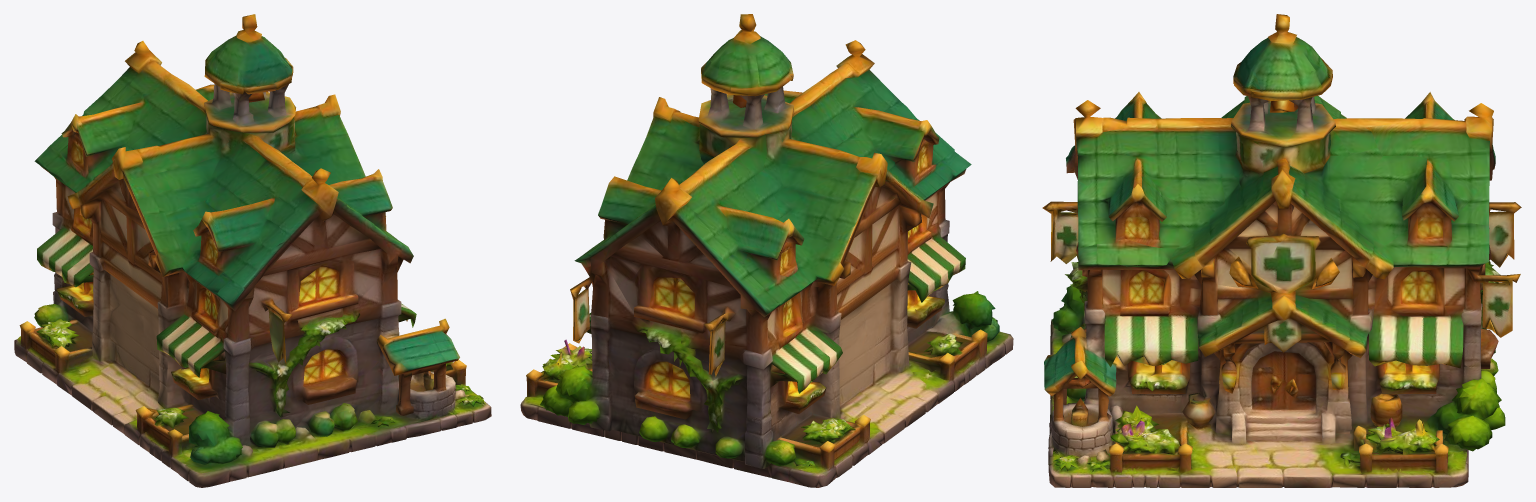
File: hospital_2.glb
The picture shows the model from 3 angles, left to right: view 1: azimuth 30°, elevation 25°; view 2: azimuth 150°, elevation 25°; view 3: azimuth 270°, elevation 25°; orthographic projection. The views are drawn at different scales.
Visible parts, largest first — view 1: tripo_node_85baf2e3-f52c-430c-8975-efc0fe39505f; view 2: tripo_node_85baf2e3-f52c-430c-8975-efc0fe39505f; view 3: tripo_node_85baf2e3-f52c-430c-8975-efc0fe39505f.
Part boxes in pixels (x1,y1,x2,y2): tripo_node_85baf2e3-f52c-430c-8975-efc0fe39505f: (14, 14, 491, 487); tripo_node_85baf2e3-f52c-430c-8975-efc0fe39505f: (520, 14, 1013, 487); tripo_node_85baf2e3-f52c-430c-8975-efc0fe39505f: (1042, 14, 1521, 487).
Bounding box in the file's own units: 0.7856 × 0.9142 × 1.
1 material, 1 textured.
